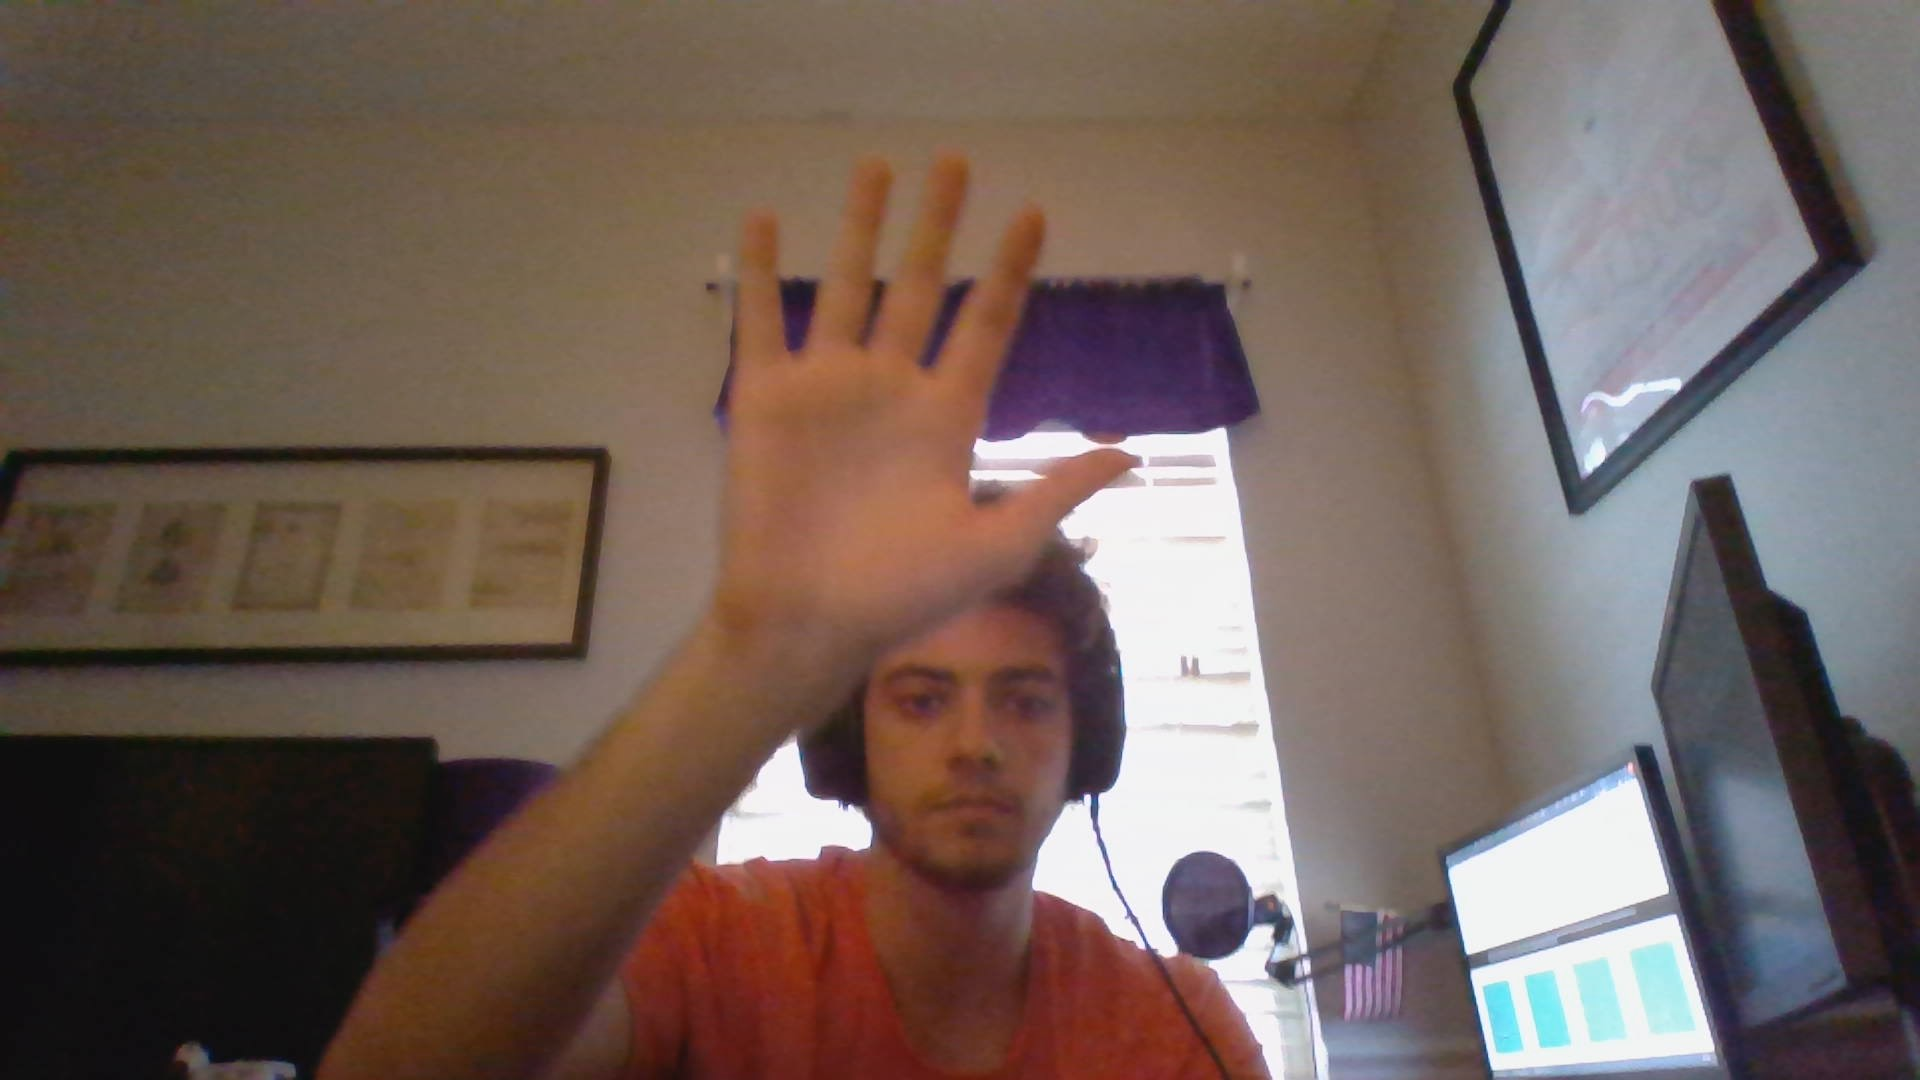Right Palm Up: (698, 144, 1149, 665)
